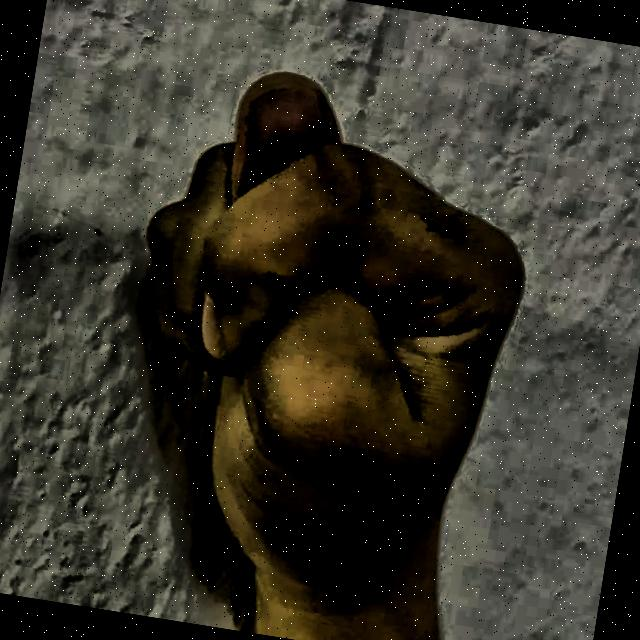Ta: (74, 18, 571, 640)
